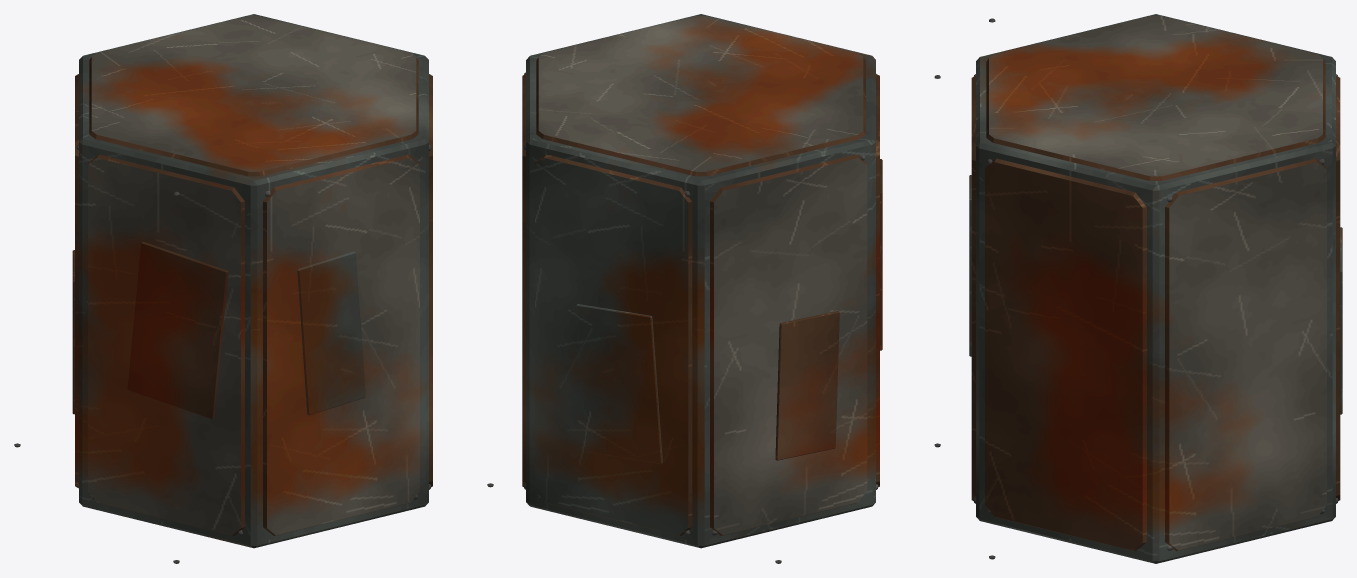
The model's file is R4B_HexColumn.glb.
3 renders of one model, left to right at view 1: azimuth 30°, elevation 25°; view 2: azimuth 150°, elevation 25°; view 3: azimuth 270°, elevation 25°, orthographic. The views are drawn at different scales.
Parts seen in each view (by area): view 1: R4B_HexColumn; view 2: R4B_HexColumn; view 3: R4B_HexColumn.
Boxes of the visible parts, box(x1,y1,x2,y2) form: R4B_HexColumn: box(14, 14, 493, 563); R4B_HexColumn: box(522, 14, 940, 563); R4B_HexColumn: box(969, 14, 1342, 563).
Size of the model in its own units: 0.5035 by 0.52 by 0.4563.
4 materials, 4 textured.
